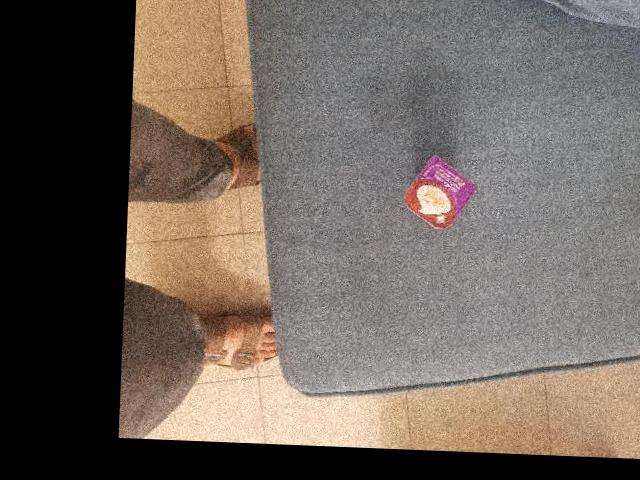milky: (502, 72, 588, 164)
